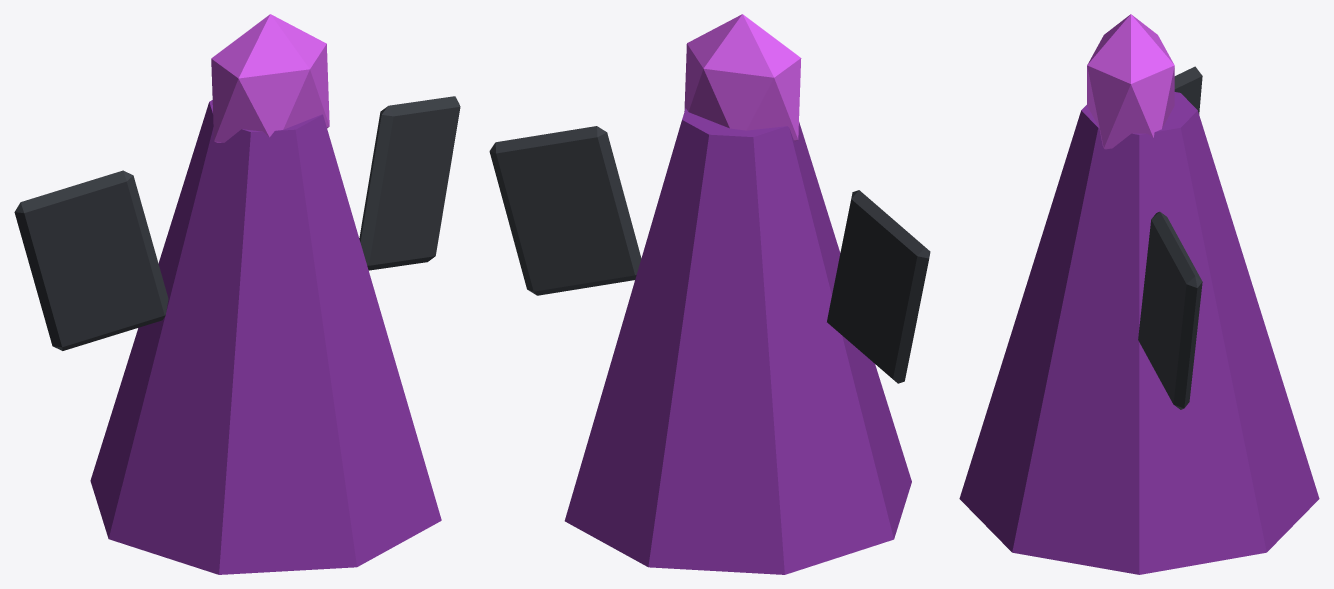
File: boss_dread_veil.glb
3 renders of one model, left to right at view 1: azimuth 30°, elevation 25°; view 2: azimuth 150°, elevation 25°; view 3: azimuth 270°, elevation 25°, orthographic.
Visible parts, largest first — view 1: boss_dread_veil; view 2: boss_dread_veil; view 3: boss_dread_veil.
Part boxes in pixels (left/top/right/bottom): boss_dread_veil: left=14, top=14, right=460, bottom=574; boss_dread_veil: left=489, top=14, right=930, bottom=574; boss_dread_veil: left=959, top=14, right=1319, bottom=574.
Size of the model in its own units: 2.96 by 3.12 by 2.1.
